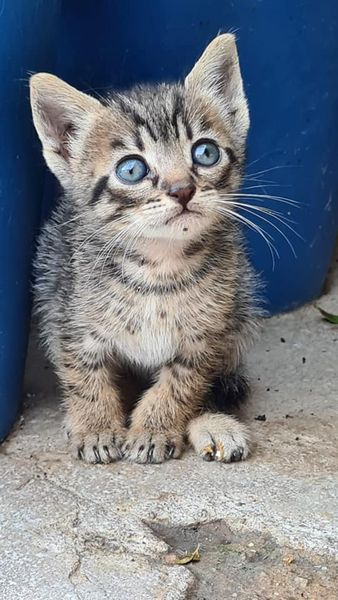cat: (4, 24, 279, 480)
